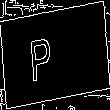P_N: (42, 27, 68, 83)
